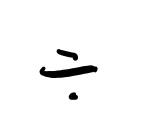div: (39, 47, 98, 98)
